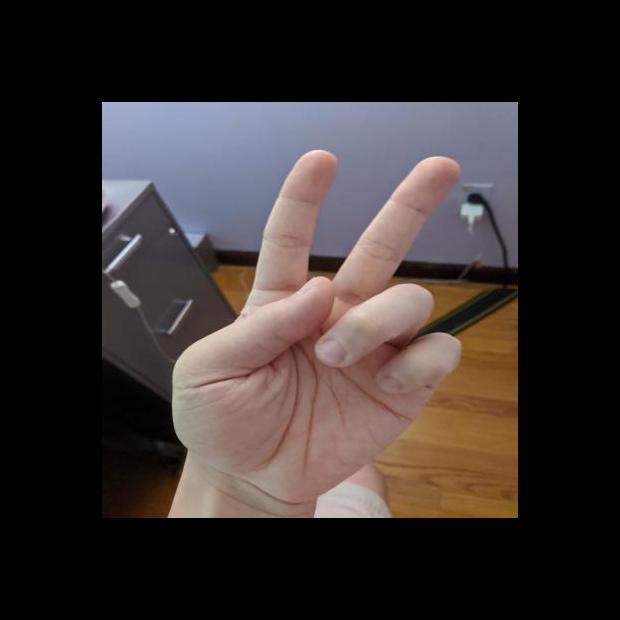J: (158, 143, 475, 505)
